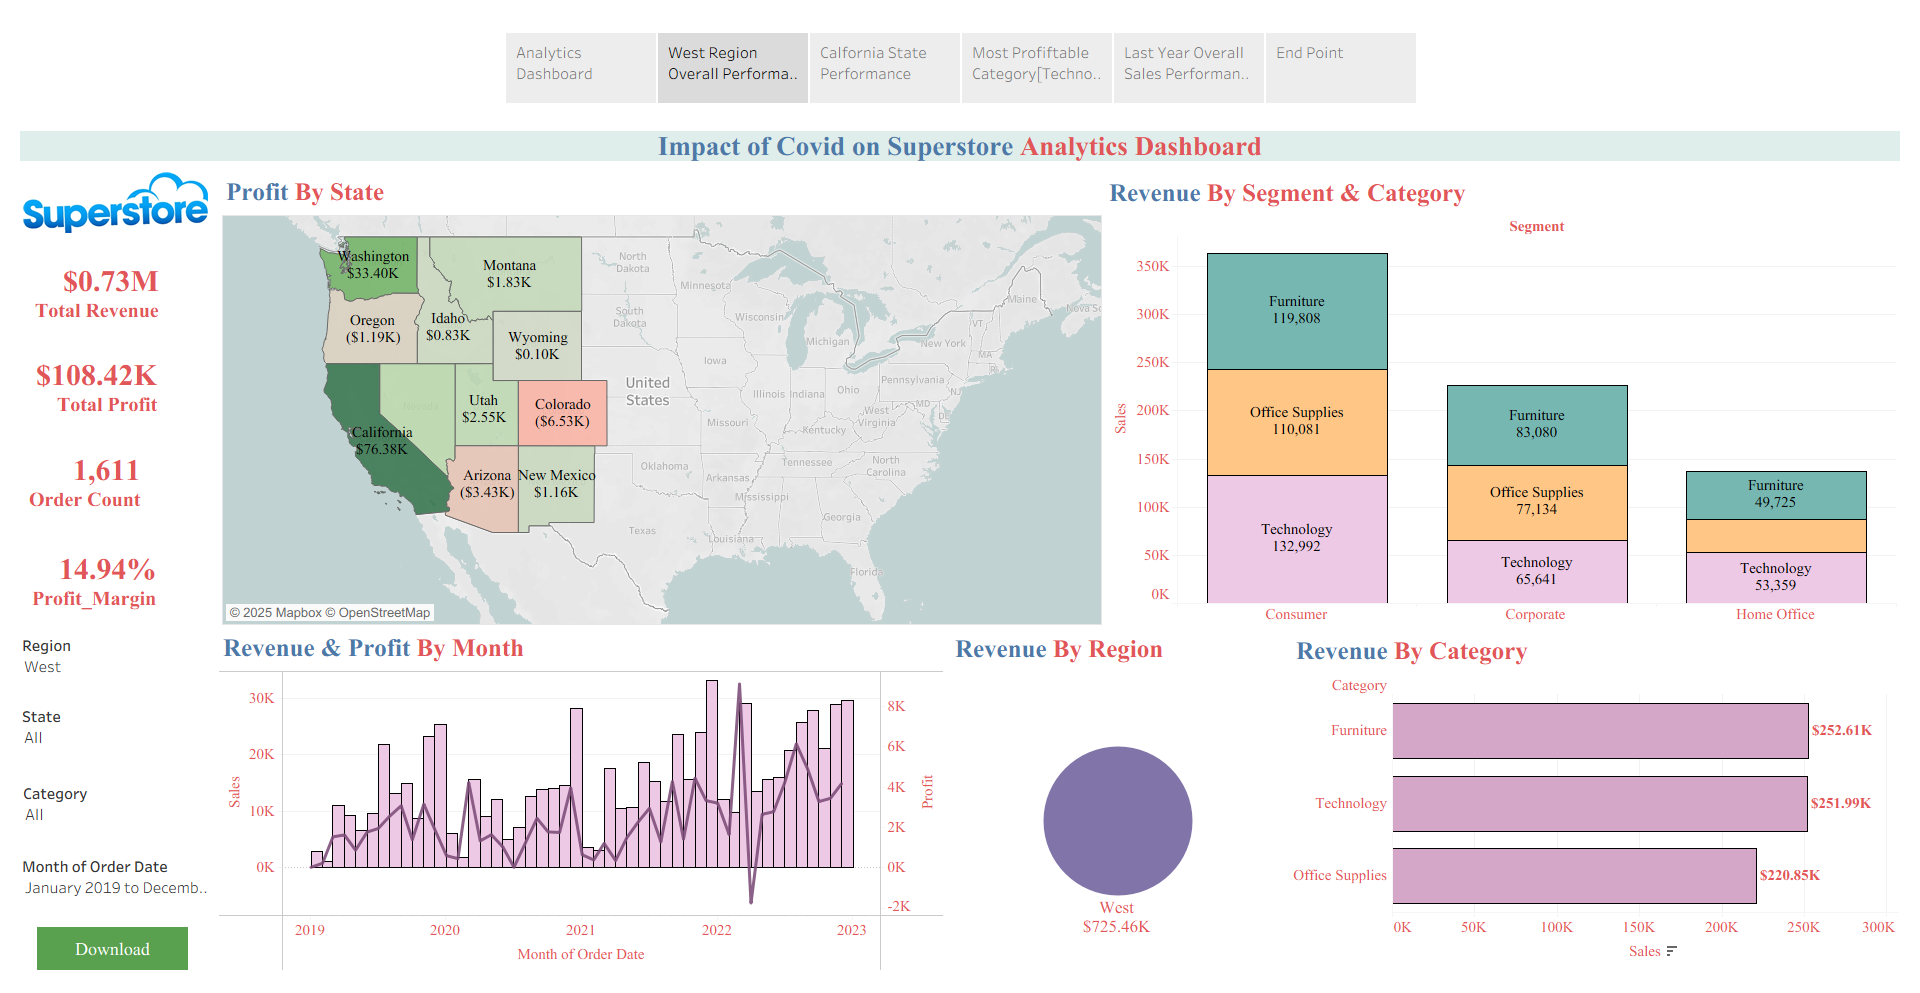

What the dashboard file says about the page in this screenshot:
{"tool":"tableau","page":{"name":"Dashboard","canvas":[1000,1000],"units":"permille","ordinal":0},"visuals":[{"type":"title","box":[4.8,10,990.3,47.4]},{"type":"image","param":"Image/superstore.jpg","box":[7.9,61.2,97.2,83.7]},{"type":"worksheet","title":"State_Profit","mark":"Automatic","box":[112.2,61.2,462.3,523.1]},{"type":"worksheet","title":"Segment_Revenue","mark":"Automatic","rows":["Sales"],"cols":["Segment"],"box":[576.3,62.4,415.2,520.6]},{"type":"worksheet","title":"RevenueCard","mark":"Automatic","box":[7.9,151.1,95.4,101.1]},{"type":"worksheet","title":"ProfitCard","mark":"Automatic","box":[7.2,259.7,95.4,102.4]},{"type":"worksheet","title":"OrderCountCard","mark":"Automatic","box":[7.2,369.5,94.8,96.1]},{"type":"worksheet","title":"ProfitMarginCard","mark":"Automatic","box":[6.6,484.4,94.2,99.9]},{"type":"worksheet","title":"Monthly_Revenue&Profit","mark":"Automatic","rows":["Sales","Profit"],"cols":["Order Date"],"box":[111,588,380.8,395.8]},{"type":"worksheet","title":"Region_Revenue","mark":"Pie","box":[495.5,589.3,175.6,393.3]},{"type":"worksheet","title":"Category_Revenue","mark":"Automatic","rows":["Category"],"cols":["Sales"],"box":[674.1,591.8,318,388.3]},{"type":"filter","title":"Region_Revenue","param":"[federated.1aaiccs02r5n1r194tcw40cy5zjr].[none:Region:nk]","box":[7.2,594.3,98.4,71.2]},{"type":"filter","title":"State_Profit","param":"[federated.1aaiccs02r5n1r194tcw40cy5zjr].[none:State:nk]","box":[7.2,676.6,98.4,73.7]},{"type":"filter","title":"Category_Revenue","param":"[federated.1aaiccs02r5n1r194tcw40cy5zjr].[none:Category:nk]","box":[7.9,765.3,97.8,72.4]},{"type":"filter","title":"Monthly_Revenue&Profit","param":"[federated.1aaiccs02r5n1r194tcw40cy5zjr].[tmn:Order Date:qk]","box":[7.2,850.2,99,71.2]},{"type":"dashboard-object","box":[15.1,932.6,79.7,49.9]}]}

Visuals, with their boxes on the dashboard's canvas, which has no fixed pixel size, in thousandths of its width and height (x1, y1, x2, y2). These are canvas units, not pixel positions in the 1920x993 screenshot, which may show the page scaled, cropped or inside an application window:
title: crop(5, 10, 995, 57)
image: crop(8, 61, 105, 145)
"State_Profit" worksheet: crop(112, 61, 574, 584)
"Segment_Revenue" worksheet: crop(576, 62, 992, 583)
"RevenueCard" worksheet: crop(8, 151, 103, 252)
"ProfitCard" worksheet: crop(7, 260, 103, 362)
"OrderCountCard" worksheet: crop(7, 370, 102, 466)
"ProfitMarginCard" worksheet: crop(7, 484, 101, 584)
"Monthly_Revenue&Profit" worksheet: crop(111, 588, 492, 984)
"Region_Revenue" worksheet (Pie marks): crop(496, 589, 671, 983)
"Category_Revenue" worksheet: crop(674, 592, 992, 980)
"Region_Revenue" filter: crop(7, 594, 106, 666)
"State_Profit" filter: crop(7, 677, 106, 750)
"Category_Revenue" filter: crop(8, 765, 106, 838)
"Monthly_Revenue&Profit" filter: crop(7, 850, 106, 921)
dashboard-object: crop(15, 933, 95, 982)
